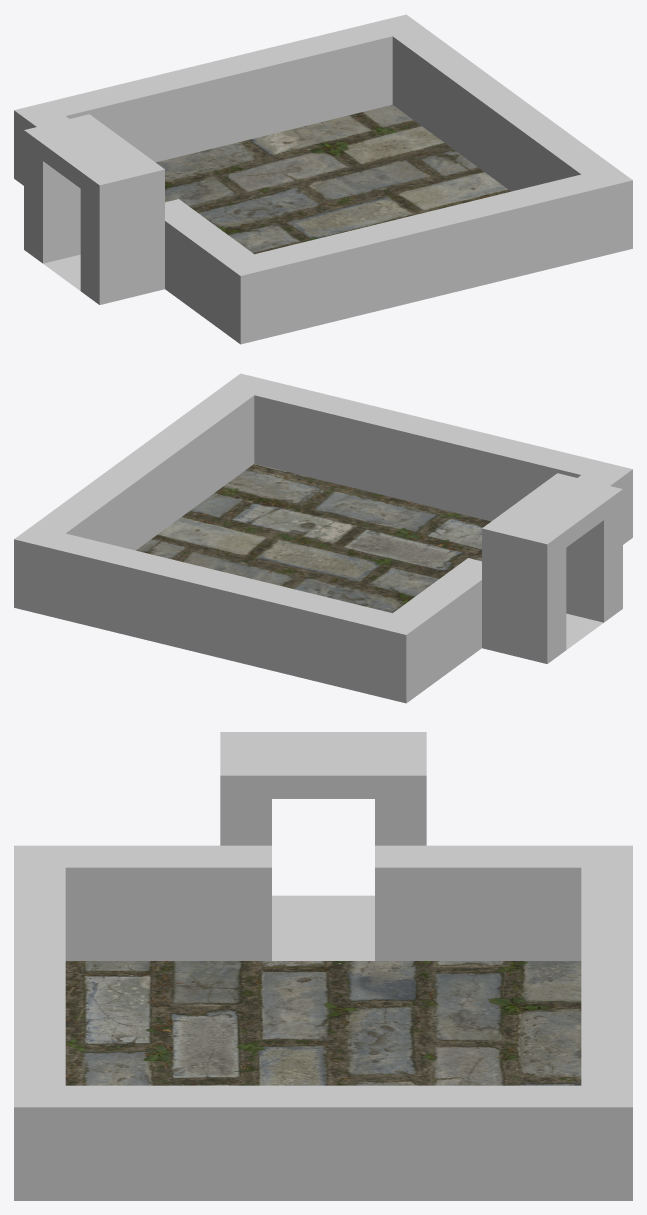
File: deadEndRoom.fbx
3 views of the same model, one above another, from view 1: azimuth 30°, elevation 25°; view 2: azimuth 150°, elevation 25°; view 3: azimuth 270°, elevation 25° (orthographic). The views are drawn at different scales.
Parts seen in each view (by area): view 1: Cube.002, Plane, Cube.001, Plane.001; view 2: Cube.002, Plane, Cube.001, Plane.001; view 3: Cube.002, Plane, Cube.001, Plane.001.
Part boxes in pixels (x1=…): Cube.002: x1=14, y1=14, x2=632, y2=344; Plane: x1=156, y1=104, x2=510, y2=254; Cube.001: x1=24, y1=114, x2=164, y2=304; Plane.001: x1=43, y1=254, x2=80, y2=290; Cube.002: x1=14, y1=373, x2=632, y2=703; Plane: x1=136, y1=463, x2=490, y2=613; Cube.001: x1=482, y1=473, x2=622, y2=663; Plane.001: x1=566, y1=613, x2=603, y2=649; Cube.002: x1=14, y1=845, x2=632, y2=1200; Plane: x1=65, y1=961, x2=581, y2=1085; Cube.001: x1=220, y1=732, x2=426, y2=845; Plane.001: x1=272, y1=895, x2=374, y2=960.
Bounding box in the file's own units: 1400 × 350 × 1200.
